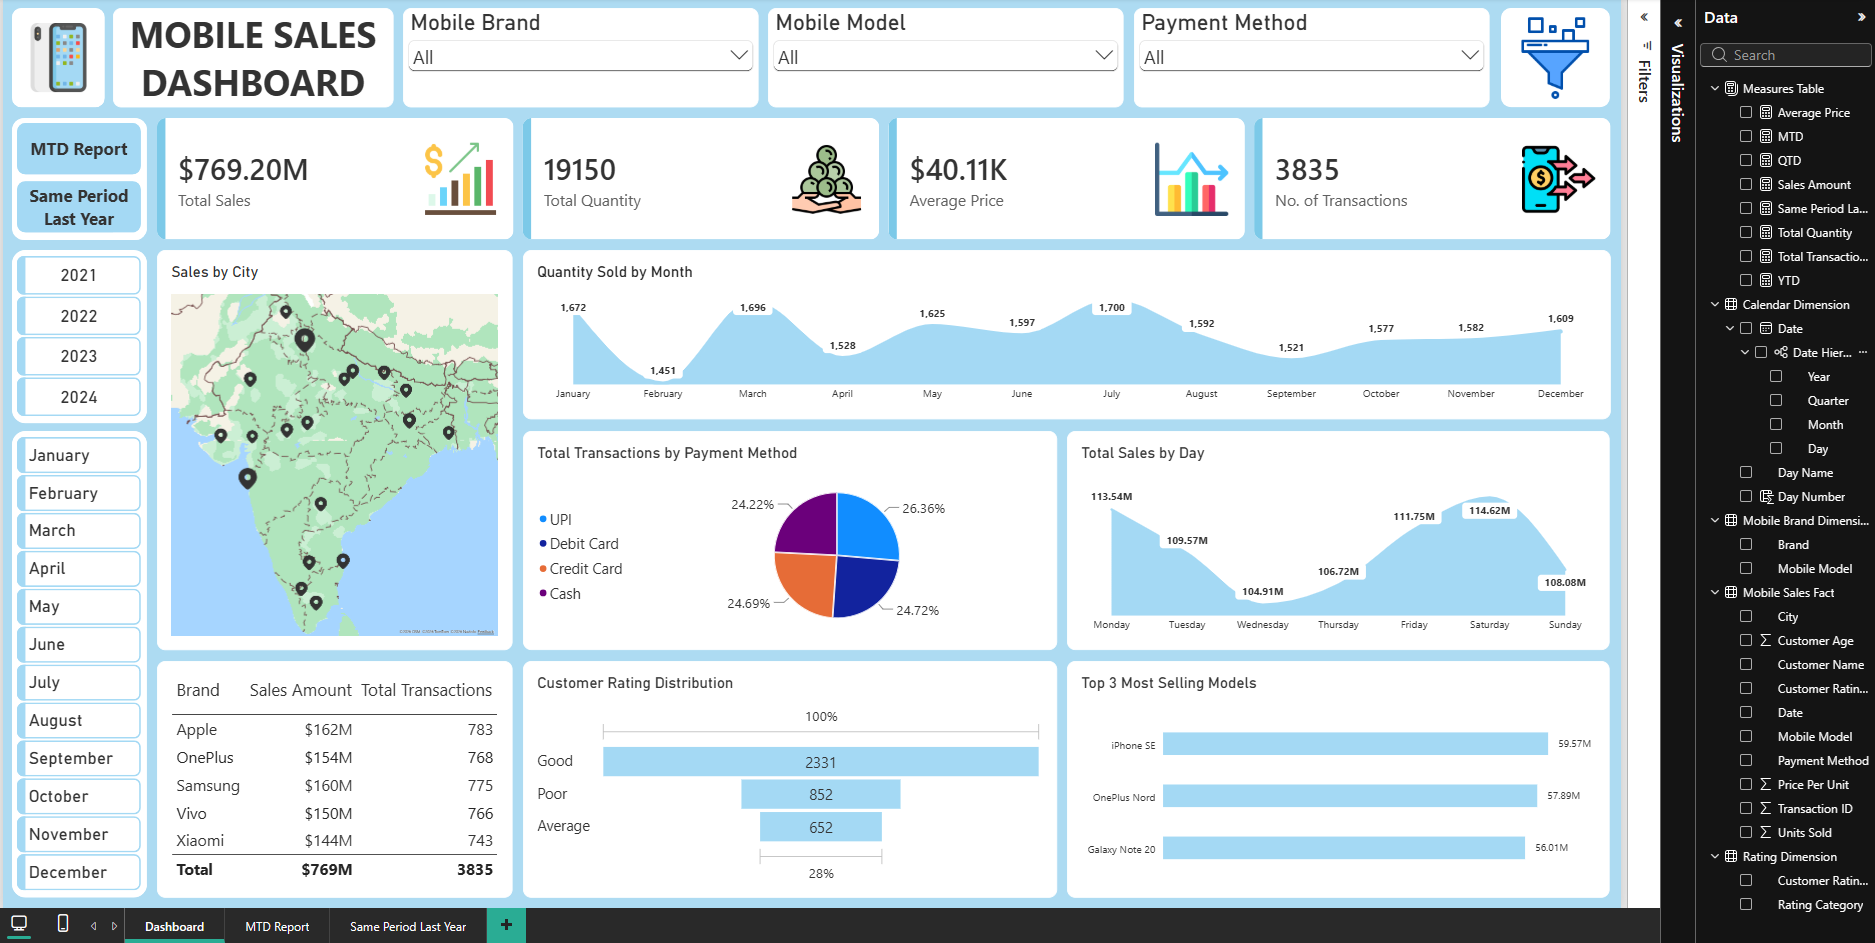

The dashboard page shown, as its layout file describes it:
{"tool":"powerbi","page":{"name":"Dashboard","canvas":[1920,1080],"ordinal":0},"visuals":[{"type":"shape","box":[10.4,11.6,110,117.7],"z":0},{"type":"shape","box":[1777.7,11.6,129.4,117.7],"z":0,"group":"g1"},{"type":"image","box":[1777.7,20.7,129.4,99.6],"z":1000,"group":"g1"},{"type":"image","box":[24.6,29.8,81.5,81.5],"z":1000},{"type":"shape","box":[10.4,142.3,160.4,144.9],"z":2000},{"type":"shape","box":[10.4,298.9,160.4,205.7],"z":3000},{"type":"shape","box":[10.4,513.6,160.4,553.7],"z":4000},{"type":"advancedSlicerVisual","fields":{"Values":["Calendar Table.Date.Variation.Date Hierarchy.Year"]},"box":[16.8,306.6,147.5,192.8],"z":5000},{"type":"advancedSlicerVisual","fields":{"Values":["Calendar Table.Date.Variation.Date Hierarchy.Month"]},"box":[16.8,521.4,147.5,538.2],"z":6000},{"type":"textbox","box":[130.7,11.6,332.5,117.7],"z":7000},{"type":"cardVisual","fields":{"Data":["Measures Table.Sales Amount","Measures Table.Total Quantity","Measures Table.Average Price","Measures Table.Total Transactions"]},"box":[182.4,142.3,1727.2,144.9],"z":8000},{"type":"image","box":[934.1,169.5,86.7,90.6],"z":9000},{"type":"image","box":[1802.3,169.5,86.7,90.6],"z":10000},{"type":"image","box":[1367.5,169.5,86.7,90.6],"z":11000},{"type":"image","box":[499.4,169.5,86.7,90.6],"z":12000},{"type":"slicer","fields":{"Values":["Mobile Brand Dimension.Brand"]},"box":[474.5,11.6,421.8,117.7],"z":13000},{"type":"slicer","fields":{"Values":["Mobile Brand Dimension.Mobile Model"]},"box":[908,11.6,421.8,117.7],"z":14000},{"type":"slicer","fields":{"Values":["Mobile Sales Fact.Payment Method"]},"box":[1342.7,11.6,421.8,117.7],"z":15000},{"type":"lineChart","title":"Quantity Sold by Month","fields":{"Category":["Calendar Dimension.Date.Variation.Date Hierarchy.Month"],"Y":["Measures Table.Total Quantity"]},"box":[617.1,298.9,1291.2,200.5],"z":16000},{"type":"azureMap","title":"Sales by City","fields":{"Category":["Mobile Sales Fact.City"],"Size":["Measures Table.Sales Amount"]},"box":[182.4,298.9,421.8,474.8],"z":17000},{"type":"tableEx","fields":{"Values":["Mobile Brand Dimension.Brand","Measures Table.Sales Amount","Measures Table.Total Transactions"]},"box":[182.4,786.6,422,280.8],"z":18000},{"type":"pieChart","fields":{"Category":["Mobile Sales Fact.Payment Method"],"Y":["Measures Table.Total Transactions"]},"box":[617.1,513.6,634,260.1],"z":19000},{"type":"lineChart","title":"Total Sales by Day","fields":{"Category":["Calendar Dimension.Day Name"],"Y":["Measures Table.Sales Amount"]},"box":[1262.7,513.6,644.3,260.1],"z":20000},{"type":"group","id":"g1","title":"Group 1","box":[1777.7,11.6,129.4,117.7],"z":21000},{"type":"funnel","title":"Customer Rating Distribution","fields":{"Category":["Rating Dimension.Rating Category"],"Y":["CountNonNull(Mobile Sales Fact.Transaction ID)"]},"box":[617,787,634,281],"z":22000},{"type":"barChart","title":"Top 3 Most Selling Models","fields":{"Category":["Mobile Brand Dimension.Mobile Model"],"Y":["Measures Table.Sales Amount"]},"box":[1263,787,644,281],"z":23000},{"type":"pageNavigator","box":[16.8,148.8,147.5,132],"z":24000}]}

Visuals, with their boxes on the page's 1920x1080 design canvas (x1, y1, x2, y2). These are canvas units, not pixel positions in the 1875x943 screenshot, which may show the page scaled, cropped or inside an application window:
shape: 10/12/120/129
shape: 1778/12/1907/129
image: 1778/21/1907/120
image: 25/30/106/111
shape: 10/142/171/287
shape: 10/299/171/505
shape: 10/514/171/1067
advancedSlicerVisual - Calendar Table.Date.Variation.Date Hierarchy.Year: 17/307/164/499
advancedSlicerVisual - Calendar Table.Date.Variation.Date Hierarchy.Month: 17/521/164/1060
textbox: 131/12/463/129
cardVisual - Measures Table.Sales Amount x Measures Table.Total Quantity: 182/142/1910/287
image: 934/170/1021/260
image: 1802/170/1889/260
image: 1368/170/1454/260
image: 499/170/586/260
slicer - Mobile Brand Dimension.Brand: 474/12/896/129
slicer - Mobile Brand Dimension.Mobile Model: 908/12/1330/129
slicer - Mobile Sales Fact.Payment Method: 1343/12/1764/129
"Quantity Sold by Month" lineChart: 617/299/1908/499
"Sales by City" azureMap: 182/299/604/774
tableEx - Mobile Brand Dimension.Brand x Measures Table.Sales Amount: 182/787/604/1067
pieChart - Mobile Sales Fact.Payment Method x Measures Table.Total Transactions: 617/514/1251/774
"Total Sales by Day" lineChart: 1263/514/1907/774
"Group 1" group: 1778/12/1907/129
"Customer Rating Distribution" funnel: 617/787/1251/1068
"Top 3 Most Selling Models" barChart: 1263/787/1907/1068
pageNavigator: 17/149/164/281
